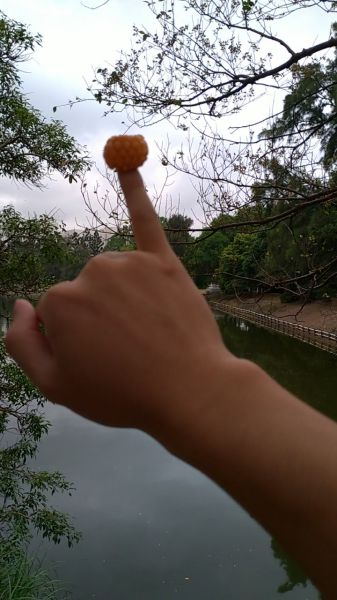eggs: (102, 133, 149, 172)
